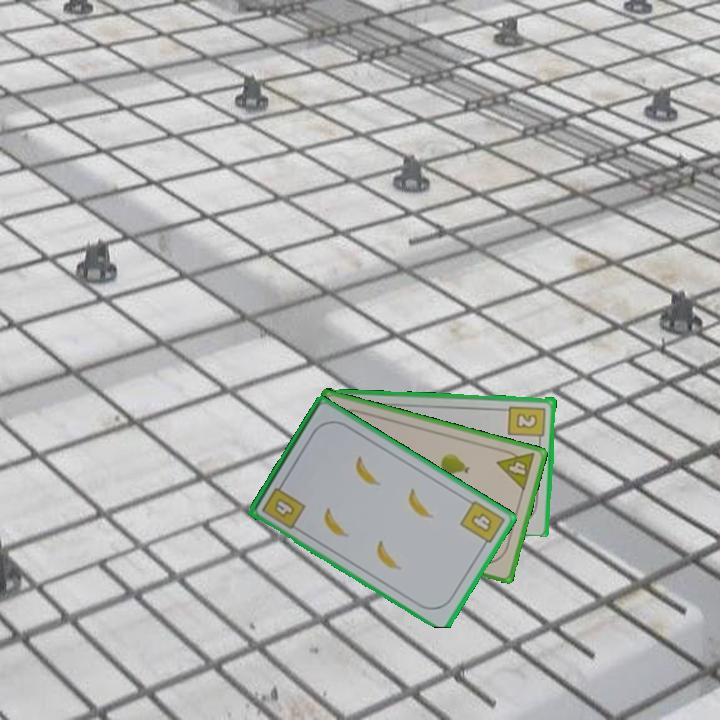2b: (506, 402, 548, 445)
4b: (456, 497, 508, 552), (258, 478, 308, 532)
4p: (493, 445, 538, 493)
